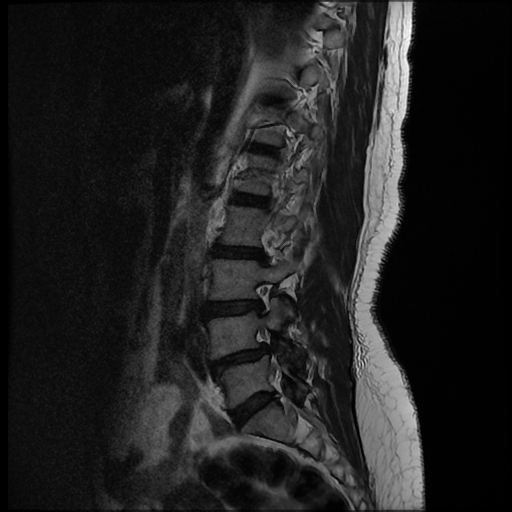RFS0: (244, 273, 289, 321)
